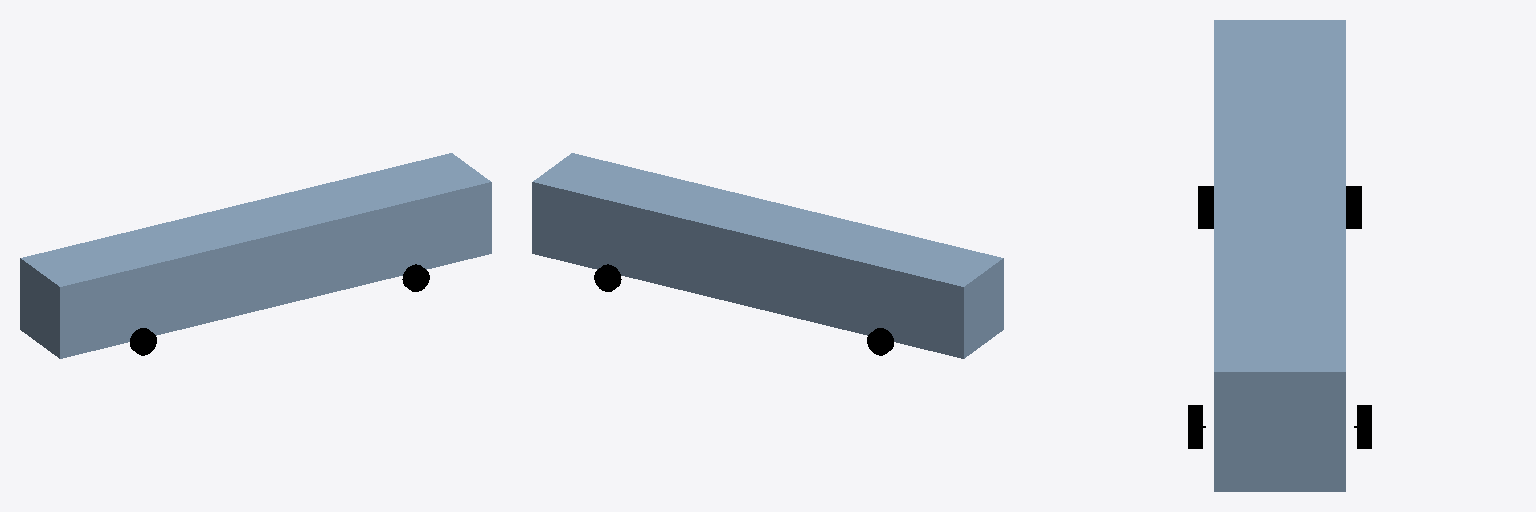
The robot description file, URDF, robot "Trucktrailer":
<?xml version="1.0"?>
<robot name="Trucktrailer">
<material name = "black">
    <color rgba="0 0 0 1"/>
</material>
<material name = "blue">
    <color rgba="0.6 0.7 0.8 1"/>
</material>
    <!--Base Frame of Car-->
    <link name = "base_link">
        <visual>
            <geometry>
                <box size = "16 2.55 2.55"/>
            </geometry>
            <material name = "blue"/>
        </visual>
        <collision>
            <geometry>
                <box size = "16 2.55 2.55"/>
            </geometry>
            <material name = "blue"/>       
        </collision>
        <inertial> 
            <mass value="6"/>
            <inertia ixx="0.2" ixy="0" ixz="0" iyy="0.2" iyz="0.0" izz="0.2"/>
        </inertial>
    </link>
    <!--Left Front Wheel - Hinge-->
    <link name ="left_hinge">
        <visual>
            <geometry>
                <box size = "0.2 0.02 0.02"/>
            </geometry>
            <origin xyz="0 0.1 0" rpy="0 0 1.57075"/>
            <material name = "black"/>
        </visual>
        <collision>
            <geometry>
                <box size = "0.2 0.02 0.02"/>
            </geometry>
            <origin xyz="0 0.1 0" rpy="0 0 1.57075"/>
        </collision>
        <inertial>
            <origin rpy="0 0 1.57075"/>
            <mass value="0.01"/>
        <inertia ixx="5E-6" ixy="0" ixz="0" iyy="5E-6" iyz="0" izz="5E-6"/>
        </inertial>

    </link>
    <joint name = "base_to_left_hinge" type = "revolute">
    <parent link="base_link"/>
    <child link = "left_hinge"/>
    <axis xyz = "0 0 1"/>
    <origin xyz="5 1.425 -1.3"/>
    <limit effort = "100" lower = "-0.55" upper = "0.55" velocity = "0.7103"/>
    </joint>
    <!-- Left Front Wheel -->
    <link name = "left_front_wheel">
        <visual>
            <geometry>
                <cylinder length="0.3" radius="0.42"/>
            </geometry>
            <origin rpy="1.57075 1.57075 0"/>
            <material name = "black"/>
        </visual>
        <collision>
            <geometry>
                <cylinder length="0.3" radius="0.42"/>
            </geometry>
            <origin rpy="1.57075 1.57075 0"/>
        </collision>
        <inertial>
            <origin rpy="1.57075 1.57075 0"/>
            <mass value="0.3"/>
        <inertia ixx="0.4" ixy="0" ixz="0" iyy="0.4" iyz="0.0" izz="0.2"/>
        </inertial>
    </link>

    <joint name ="left_hinge_to_left_front_wheel" type="continuous">
    <parent link="left_hinge"/>
    <child link ="left_front_wheel"/>
    <axis xyz = "0 1 0"/>
    <origin xyz = "0 0.2 0"/>
    </joint>
    <!--Right Front Wheel - Hinge-->
    <link name ="right_hinge">
        <visual>
            <geometry>
                <box size = "0.2 0.02 0.02"/>
            </geometry>
            <origin xyz="0 -0.1 0" rpy="0 0 -1.57075"/>
            <material name = "black"/>
        </visual>
        <collision>
            <geometry>
                <box size = "0.2 0.02 0.02"/>
            </geometry>
            <origin xyz="0 -0.1 0" rpy="0 0 -1.57075"/>
        </collision>
        <inertial>
            <origin rpy="0 0 1.57075"/>
            <mass value="0.01"/>
            <inertia ixx="5E-6" ixy="0" ixz="0" iyy="5E-6" iyz="0" izz="5E-6"/>
        </inertial>
    </link>
    
    <joint name = "base_to_right_hinge" type = "revolute">
    <parent link="base_link"/>
    <child link = "right_hinge"/>
    <axis xyz = "0 0 1"/>
    <origin xyz="5 -1.425 -1.3"/>
    <limit effort = "100" lower = "-0.55" upper = "0.55" velocity = "0.7103"/>
    </joint>
    <!-- Right Front Wheel -->
    <link name = "right_front_wheel">
        <visual>
            <geometry>
                <cylinder length="0.3" radius="0.42"/>
            </geometry>
            <origin rpy="1.57075 1.57075 0"/>
            <material name = "black"/>
        </visual>
        <collision>
            <geometry>
                <cylinder length="0.3" radius="0.42"/>
            </geometry>
            <origin rpy="1.57075 1.57075 0"/>
        </collision>
        <inertial>
            <origin rpy="-1.57075 -1.57075 0"/>
            <mass value="0.3"/>
            <inertia ixx="0.4" ixy="0" ixz="0" iyy="0.4" iyz="0.0" izz="0.2"/>
        </inertial>
    </link>

    <joint name ="right_hinge_to_right_front_wheel" type="continuous">
    <parent link="right_hinge"/>
    <child link ="right_front_wheel"/>
    <axis xyz = "0 1 0"/>
    <origin xyz = "0 -0.2 0"/>
    </joint>
    <!--Left Back Wheel-->
    <link name = "left_back_wheel">
        <visual>
            <geometry>
                <cylinder length="0.3" radius="0.42"/>
            </geometry>
            <origin rpy="1.57075 1.57075 0"/>
            <material name = "black"/>
        </visual>
        <collision>
            <geometry>
                <cylinder length="0.3" radius="0.42"/>
            </geometry>
            <origin rpy="1.57075 1.57075 0"/>
        </collision>
        <inertial>
            <origin rpy="1.57075 1.57075 0"/>
            <mass value="0.3"/>
            <inertia ixx="0.4" ixy="0" ixz="0" iyy="0.4" iyz="0.0" izz="0.2"/>
        </inertial>
    </link>

    <joint name ="base_to_left_back_wheel" type="continuous">
    <parent link="base_link"/>
    <child link ="left_back_wheel"/>
    <axis xyz = "0 1 0"/>
    <origin xyz = "-5 1.425 -1.3"/>
    </joint>
    <!--Right Back Wheel-->
    <link name = "right_back_wheel">
        <visual>
            <geometry>
                <cylinder length="0.3" radius="0.42"/>
            </geometry>
            <origin rpy="1.57075 1.57075 0"/>
            <material name = "black"/>
        </visual>
        <collision>
            <geometry>
                <cylinder length="0.3" radius="0.42"/>
            </geometry>
            <origin rpy="1.57075 1.57075 0"/>
        </collision>
        <inertial>
            <origin rpy="-1.57075 -1.57075 0"/>
            <mass value="0.3"/>
            <inertia ixx="0.4" ixy="0" ixz="0" iyy="0.4" iyz="0.0" izz="0.2"/>
        </inertial>
    </link>

    <joint name ="base_to_right_back_wheel" type="continuous">
    <parent link="base_link"/>
    <child link ="right_back_wheel"/>
    <axis xyz = "0 1 0"/>
    <origin xyz = "-5 -1.425 -1.3"/>
    </joint>
</robot>

--- Render facts (derived) ---
3 views of the same robot in one strip: view 1: azimuth 30°, elevation 25°; view 2: azimuth 150°, elevation 25°; view 3: azimuth 270°, elevation 25° (orthographic).
Model Trucktrailer with 7 links and 6 joints (2 revolute, 4 continuous), rooted at base_link, posed every joint at zero.
Links seen in each view (by area): view 1: base_link, right_back_wheel, right_front_wheel; view 2: base_link, left_back_wheel, left_front_wheel; view 3: base_link, left_back_wheel, right_back_wheel, left_front_wheel, right_front_wheel.
Boxes of the visible links, x1,y1,x2,y2 form: base_link: (20, 153, 491, 358); right_back_wheel: (130, 328, 156, 355); right_front_wheel: (402, 264, 429, 291); base_link: (532, 153, 1003, 358); left_back_wheel: (867, 328, 893, 355); left_front_wheel: (594, 264, 621, 291); base_link: (1214, 20, 1345, 491); left_back_wheel: (1346, 186, 1361, 228); right_back_wheel: (1198, 186, 1213, 228); left_front_wheel: (1357, 405, 1371, 448); right_front_wheel: (1188, 405, 1202, 448).
Size in the robot's own frame: 16 by 3.55 by 3 metres.
Geometry: primitives only (box / cylinder / sphere), no mesh files.